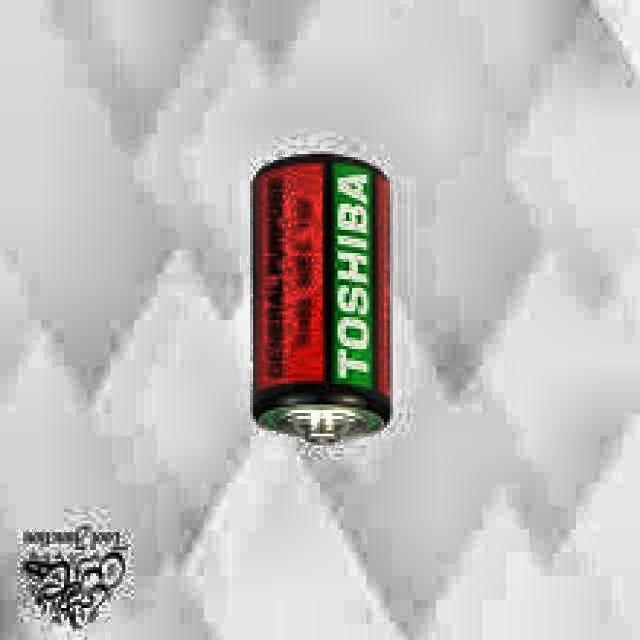Non-Valuable Waste - Batteries: (251, 154, 391, 444)
